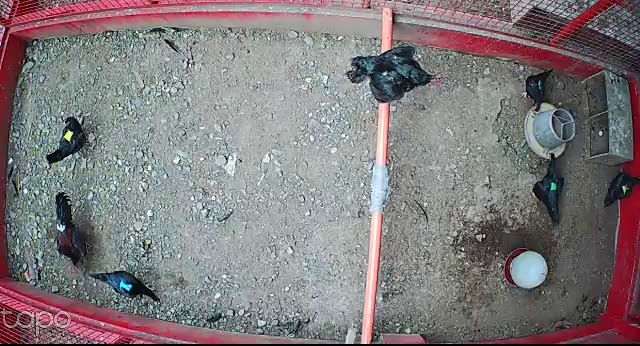Chicken: (347, 44, 443, 105), (85, 270, 162, 307), (529, 151, 566, 228), (41, 117, 90, 167), (601, 168, 640, 211), (520, 67, 553, 113)
Drinker: (502, 246, 549, 290)
Feeder: (523, 101, 574, 161)
Rooster: (51, 191, 95, 269)
Saddle_Color_Blue: (118, 279, 133, 293)
Saddle_Color_Yellow: (64, 127, 74, 143)
Saddle_Color_YellowGreen: (621, 183, 630, 194)
